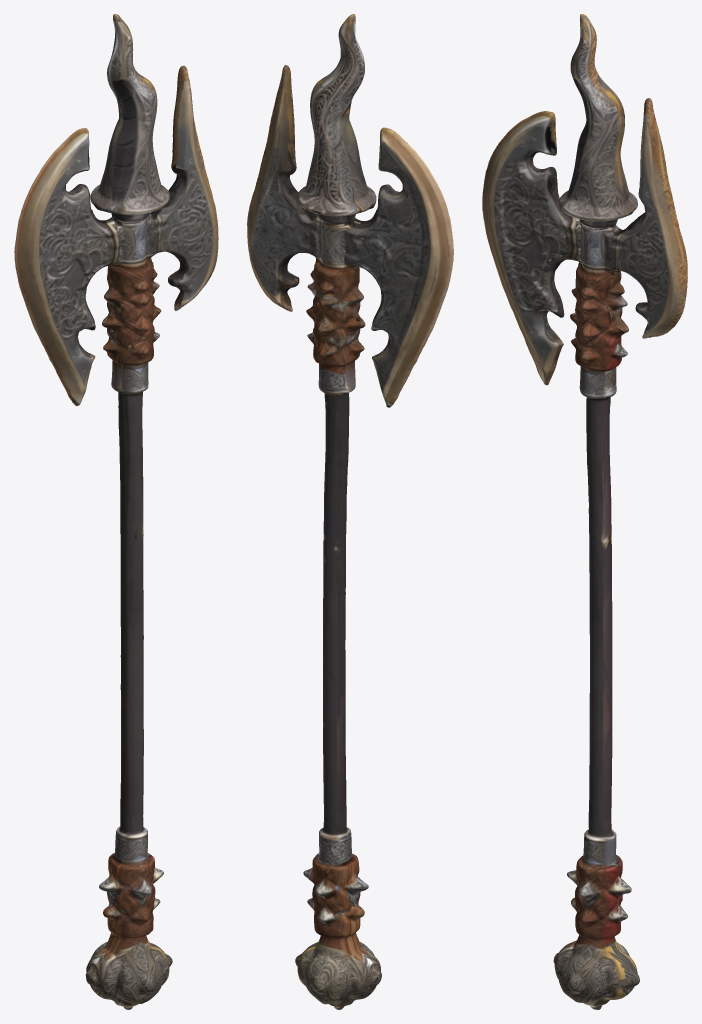
Rendered from Inferno_Battle_Axe_1030014254_texture.fbx.
The picture shows the model from 3 angles, left to right: view 1: azimuth 30°, elevation 25°; view 2: azimuth 150°, elevation 25°; view 3: azimuth 330°, elevation 25°; orthographic projection.
Visible parts, largest first — view 1: input; view 2: input; view 3: input.
Boxes of the visible parts, left/top/right/bottom form: input: left=14, top=14, right=218, bottom=1009; input: left=247, top=14, right=453, bottom=1009; input: left=482, top=14, right=687, bottom=1009.
Size of the model in its own units: 40.82 by 190 by 16.54.
1 material, 1 textured.
